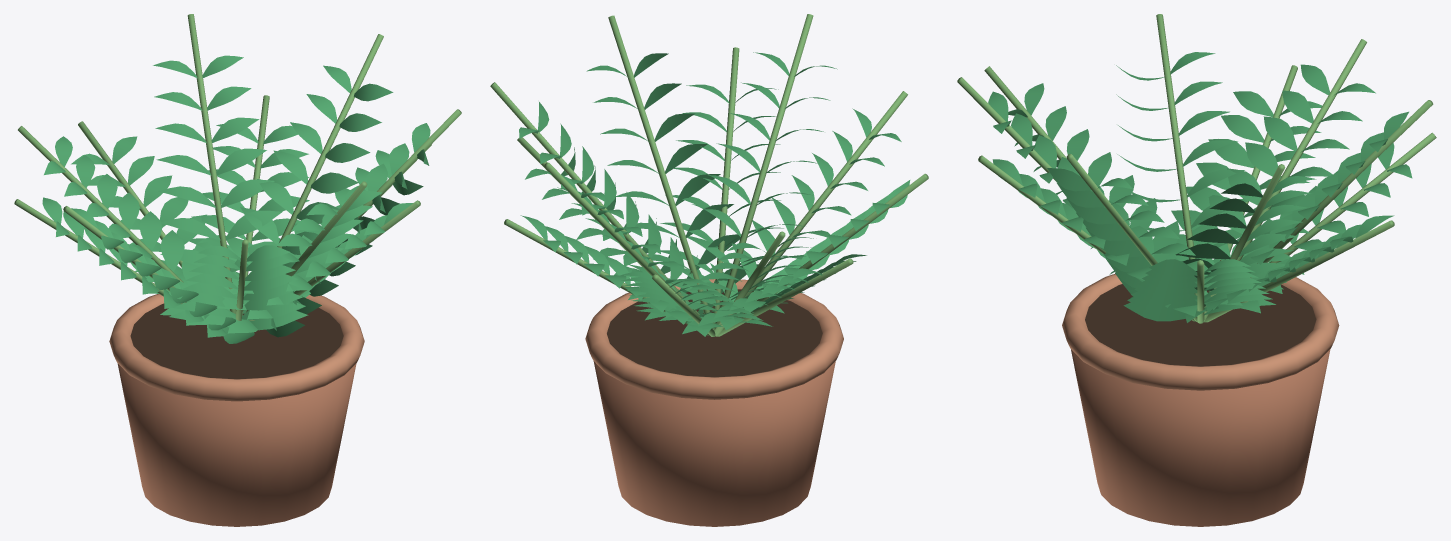
Rendered from boston_fern.glb.
3 renders of one model, left to right at view 1: azimuth 30°, elevation 25°; view 2: azimuth 150°, elevation 25°; view 3: azimuth 270°, elevation 25°, orthographic. The views are drawn at different scales.
Visible parts, largest first — view 1: pot_static, soil_static, pot_rim_static, frond_g720_fern_11, frond_g540_fern_8, frond_g120_fern_1, frond_g180_fern_2, frond_g360_fern_5, frond_g660_fern_10, frond_g420_fern_6, frond_g240_fern_3, frond_g600_fern_9 (+15 smaller); view 2: pot_static, soil_static, pot_rim_static, frond_g360_fern_5, frond_g180_fern_2, frond_g480_fern_7, frond_g540_fern_8, frond_g660_fern_10, frond_g720_fern_11, frond_g600_fern_9, frond_g300_fern_4, frond_g240_fern_3 (+1 smaller); view 3: pot_static, soil_static, pot_rim_static, frond_g300_fern_4, frond_g120_fern_1, frond_g720_fern_11, frond_g420_fern_6, frond_g240_fern_3, frond_g360_fern_5, frond_g660_fern_10, frond_g180_fern_2, frond_g540_fern_8 (+13 smaller).
Boxes of the visible parts, x1,y1,x2,y2 form: pot_static: (117, 363, 356, 526); soil_static: (130, 303, 343, 379); pot_rim_static: (109, 294, 364, 401); frond_g720_fern_11: (187, 14, 236, 313); frond_g540_fern_8: (245, 34, 383, 312); frond_g120_fern_1: (18, 126, 183, 282); frond_g180_fern_2: (249, 181, 367, 320); frond_g360_fern_5: (358, 109, 461, 218); frond_g660_fern_10: (294, 200, 420, 295); frond_g420_fern_6: (78, 121, 182, 267); frond_g240_fern_3: (242, 95, 269, 315); frond_g600_fern_9: (14, 199, 182, 304); pot_static: (593, 361, 835, 526); soil_static: (607, 289, 822, 377); pot_rim_static: (585, 279, 843, 399); frond_g360_fern_5: (608, 15, 714, 330); frond_g180_fern_2: (714, 14, 813, 329); frond_g480_fern_7: (733, 91, 907, 313); frond_g540_fern_8: (490, 82, 699, 315); frond_g660_fern_10: (713, 47, 739, 323); frond_g720_fern_11: (544, 162, 698, 315); frond_g600_fern_9: (717, 258, 853, 336); frond_g300_fern_4: (736, 173, 928, 317); frond_g240_fern_3: (504, 219, 709, 335); pot_static: (1071, 349, 1330, 526); soil_static: (1085, 284, 1316, 366); pot_rim_static: (1062, 274, 1339, 390); frond_g300_fern_4: (1156, 14, 1197, 295); frond_g120_fern_1: (1237, 39, 1366, 260); frond_g720_fern_11: (1250, 100, 1433, 278); frond_g420_fern_6: (1269, 132, 1436, 263); frond_g240_fern_3: (1204, 220, 1394, 322); frond_g360_fern_5: (1066, 154, 1197, 321); frond_g660_fern_10: (978, 155, 1195, 321); frond_g180_fern_2: (957, 77, 1056, 181); frond_g540_fern_8: (1203, 164, 1285, 321).
Size of the model in its own units: 0.6812 by 0.6433 by 0.6741.
